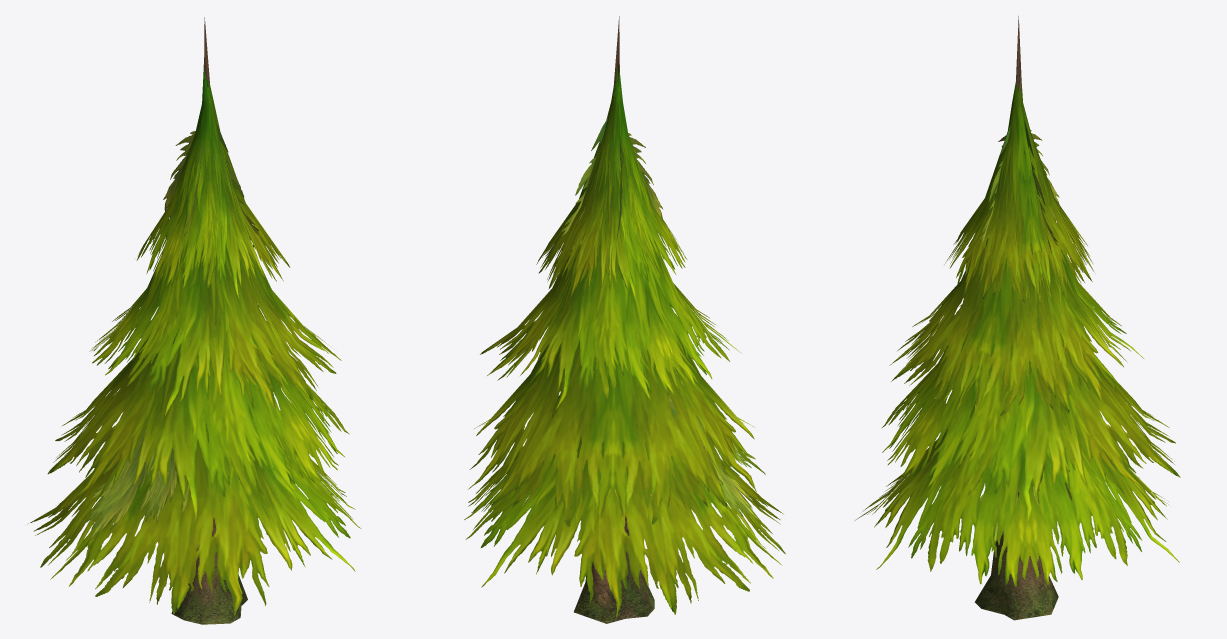
The model's file is Pine_GreenYellow_02.FBX.
3 renders of one model, left to right at view 1: azimuth 30°, elevation 25°; view 2: azimuth 150°, elevation 25°; view 3: azimuth 270°, elevation 25°, orthographic.
Visible parts, largest first — view 1: Object04; view 2: Object04; view 3: Object04.
Part boxes in pixels (x1,y1,x2,y2): Object04: (27,17,361,624); Object04: (464,16,785,623); Object04: (855,16,1180,620).
Bounding box in the file's own units: 28.96 × 28.96 × 48.33.
Materials: 2 (2 with a texture image).
